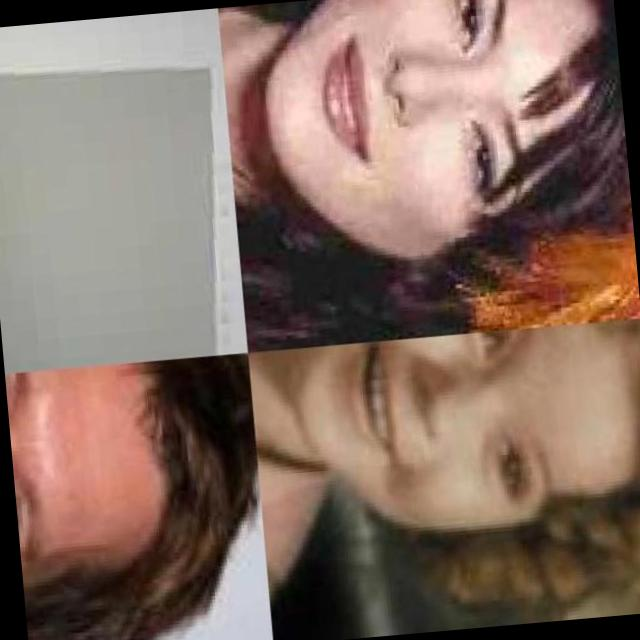bareface: (262, 0, 633, 261)
